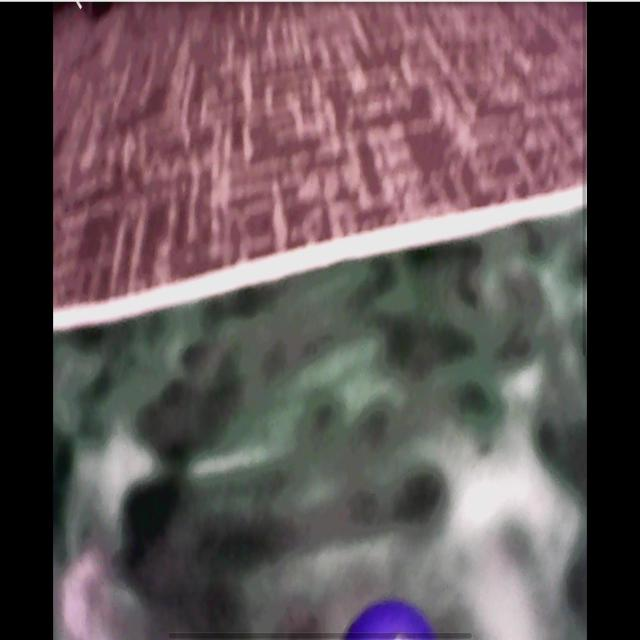ball: (346, 603, 434, 640)
